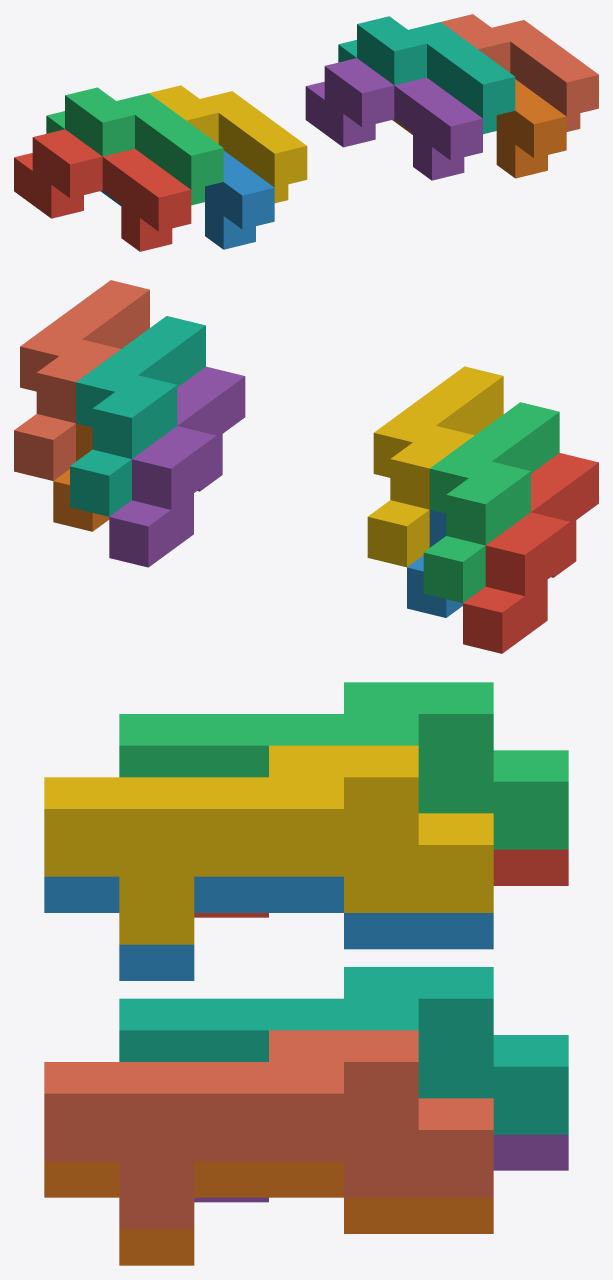
Rendered from tiling.obj.
3 renders of one model, top to bottom at view 1: azimuth 30°, elevation 25°; view 2: azimuth 150°, elevation 25°; view 3: azimuth 270°, elevation 25°, orthographic. The views are drawn at different scales.
Parts seen in each view (by area): view 1: copy_1_domain_1, copy_1_domain_5, copy_1_domain_3, copy_1_domain_7, copy_1_domain_4, copy_1_domain_8, copy_1_domain_6, copy_1_domain_2; view 2: copy_1_domain_3, copy_1_domain_7, copy_1_domain_5, copy_1_domain_1, copy_1_domain_4, copy_1_domain_8, copy_1_domain_2, copy_1_domain_6; view 3: copy_1_domain_4, copy_1_domain_8, copy_1_domain_7, copy_1_domain_3, copy_1_domain_6, copy_1_domain_2, copy_1_domain_5, copy_1_domain_1.
Part boxes in pixels (left/top/right/bottom): copy_1_domain_1: left=14, top=129, right=191, bottom=251; copy_1_domain_5: left=305, top=58, right=482, bottom=180; copy_1_domain_3: left=46, top=87, right=223, bottom=205; copy_1_domain_7: left=338, top=16, right=515, bottom=134; copy_1_domain_4: left=149, top=85, right=307, bottom=203; copy_1_domain_8: left=441, top=14, right=598, bottom=131; copy_1_domain_6: left=392, top=79, right=566, bottom=178; copy_1_domain_2: left=100, top=150, right=274, bottom=249; copy_1_domain_3: left=423, top=402, right=559, bottom=602; copy_1_domain_7: left=70, top=316, right=205, bottom=516; copy_1_domain_5: left=109, top=366, right=245, bottom=567; copy_1_domain_1: left=463, top=453, right=598, bottom=653; copy_1_domain_4: left=367, top=366, right=503, bottom=567; copy_1_domain_8: left=14, top=280, right=149, bottom=480; copy_1_domain_2: left=407, top=510, right=462, bottom=617; copy_1_domain_6: left=53, top=423, right=109, bottom=531; copy_1_domain_4: left=44, top=745, right=493, bottom=944; copy_1_domain_8: left=44, top=1030, right=493, bottom=1229; copy_1_domain_7: left=119, top=967, right=568, bottom=1134; copy_1_domain_3: left=119, top=682, right=568, bottom=849; copy_1_domain_6: left=44, top=1161, right=493, bottom=1265; copy_1_domain_2: left=44, top=876, right=493, bottom=980; copy_1_domain_5: left=194, top=1134, right=568, bottom=1202; copy_1_domain_1: left=194, top=849, right=568, bottom=917.
Size of the model in its own units: 14 by 3 by 7.
